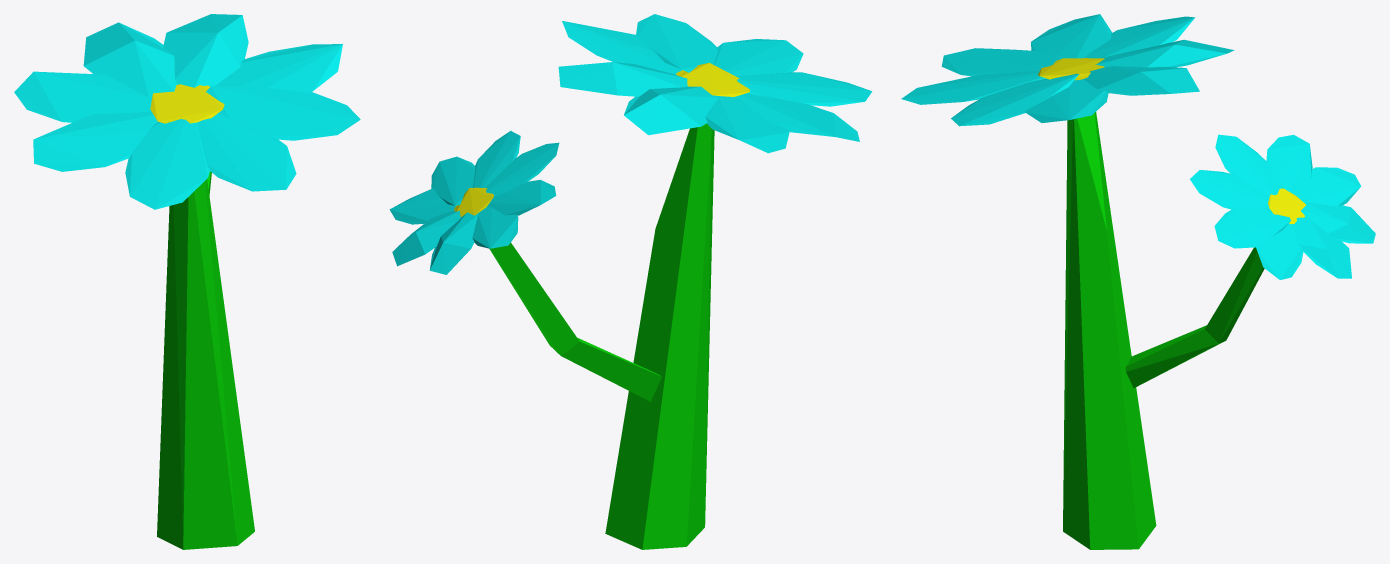
Rendered from Flower#5.003.fbx.
The picture shows the model from 3 angles, left to right: view 1: azimuth 30°, elevation 25°; view 2: azimuth 150°, elevation 25°; view 3: azimuth 270°, elevation 25°; orthographic projection. The views are drawn at different scales.
Parts seen in each view (by area): view 1: Flower#5.003; view 2: Flower#5.003; view 3: Flower#5.003.
Part boxes in pixels (x1,y1,x2,y2): Flower#5.003: (14, 14, 360, 549); Flower#5.003: (389, 14, 872, 549); Flower#5.003: (901, 14, 1375, 549).
Size of the model in its own units: 31.42 by 38.76 by 35.23.
